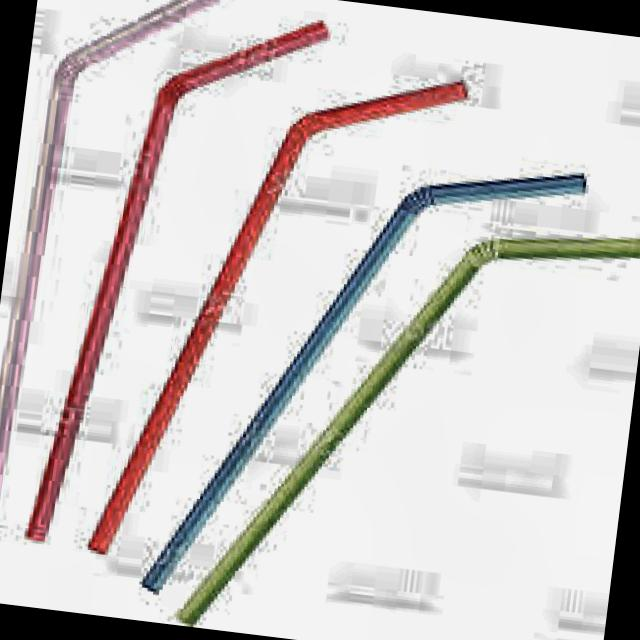plastic straw: (147, 173, 583, 589), (89, 82, 464, 551), (185, 238, 640, 623), (32, 24, 325, 538), (0, 0, 212, 492)
